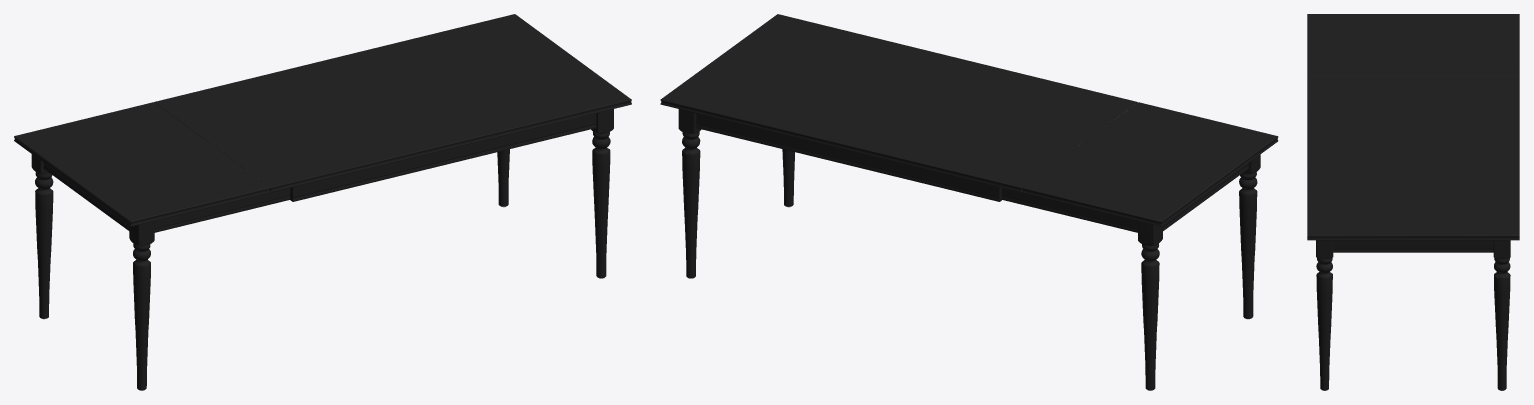
The model's file is table-1.glb.
3 views of the same model, side by side, from view 1: azimuth 30°, elevation 25°; view 2: azimuth 150°, elevation 25°; view 3: azimuth 270°, elevation 25° (orthographic). The views are drawn at different scales.
Parts seen in each view (by area): view 1: model; view 2: model; view 3: model.
Boxes of the visible parts, x1,y1,x2,y2 form: model: (14, 14, 631, 390); model: (660, 14, 1278, 390); model: (1307, 14, 1519, 390).
Size of the model in its own units: 2.15 by 0.7384 by 0.8697.
1 material, 1 textured.
